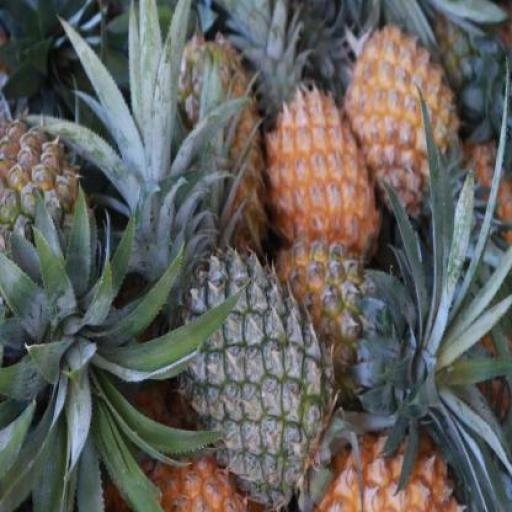------------------------------: (0, 114, 90, 344)
Pineapple - v8 v1: (344, 24, 458, 232), (265, 78, 379, 260)
